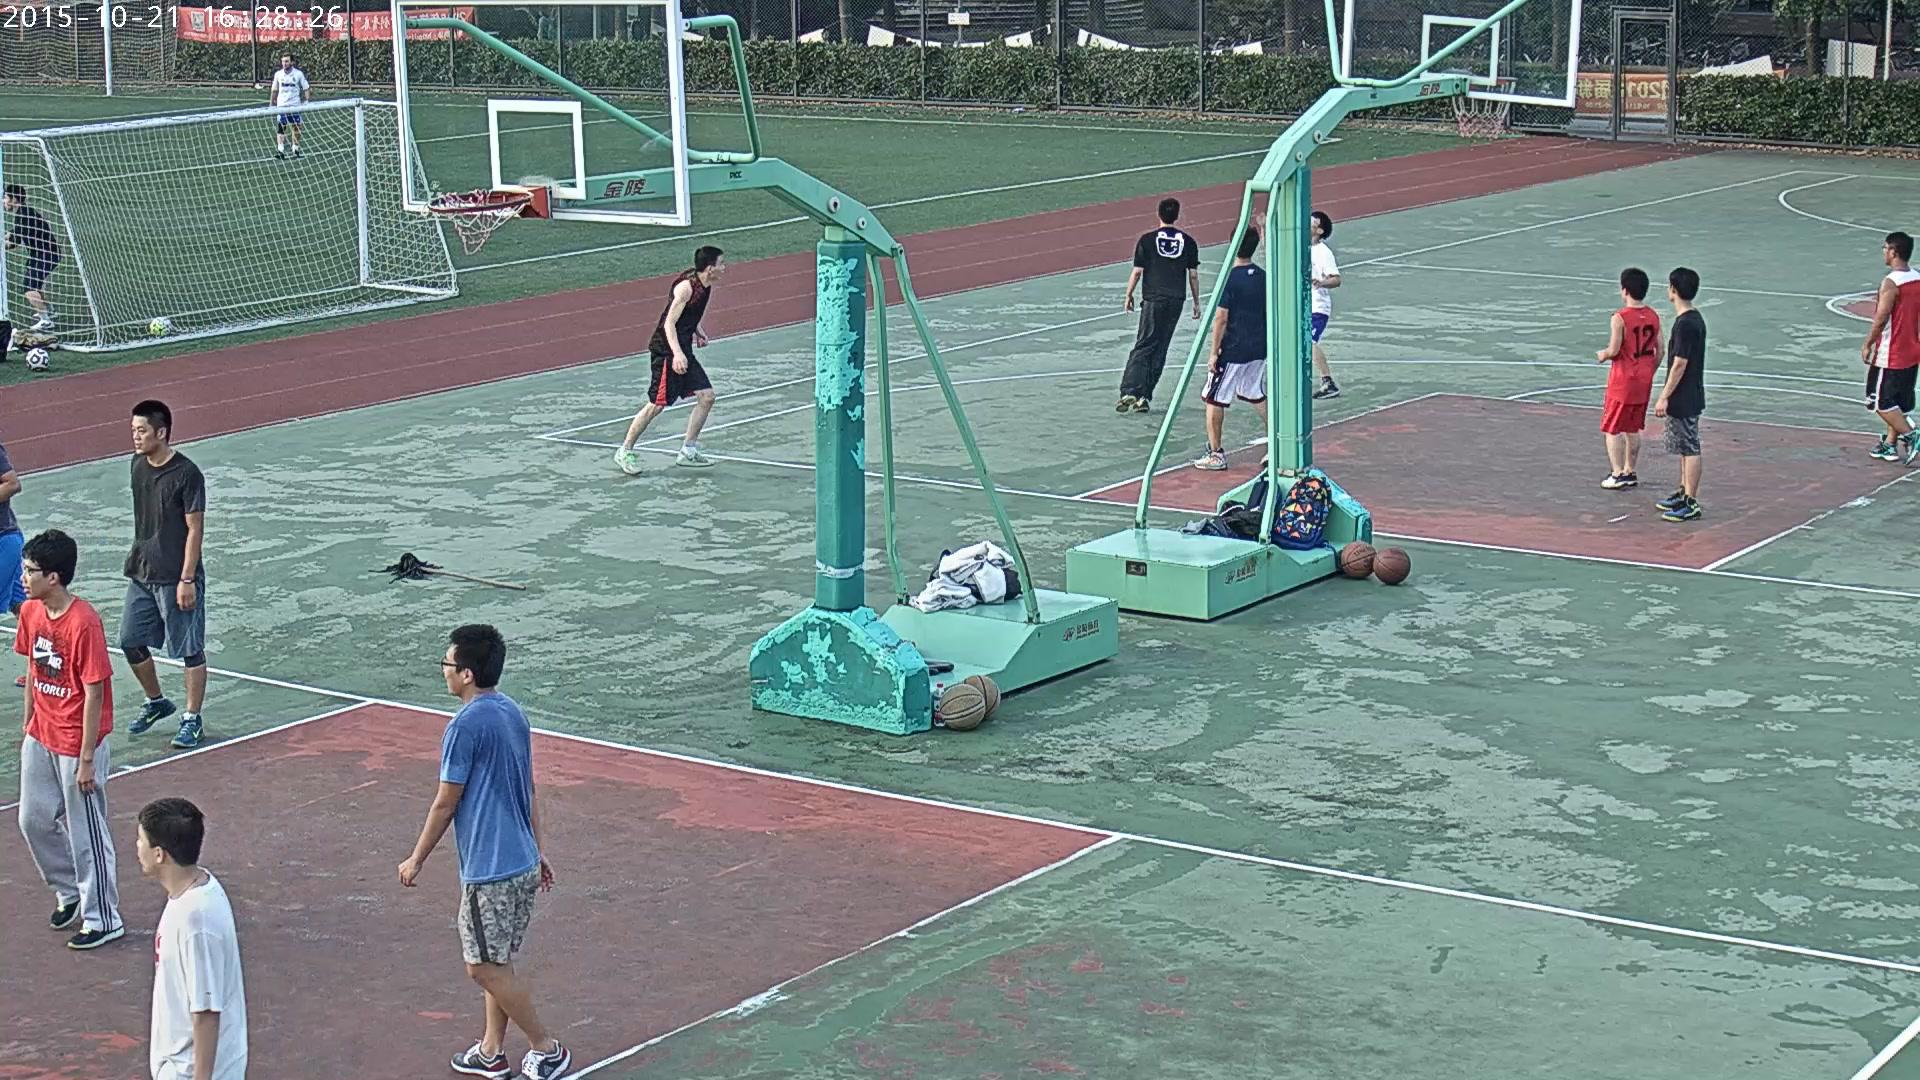face: (19, 557, 49, 597), (135, 821, 156, 875), (442, 645, 463, 697), (131, 415, 158, 455), (712, 256, 724, 280), (1882, 242, 1890, 264), (1310, 214, 1317, 233), (3, 194, 13, 209), (281, 55, 291, 68), (1668, 283, 1673, 300), (1621, 286, 1625, 301)
